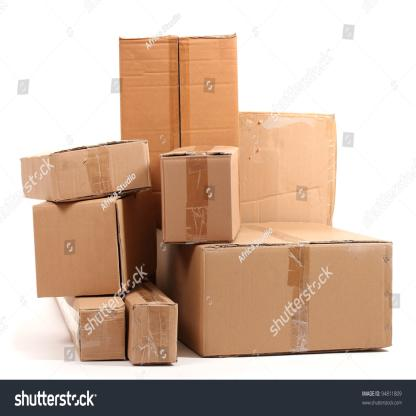box: (118, 37, 238, 244), (201, 240, 393, 358), (236, 113, 338, 224), (33, 192, 121, 301), (160, 155, 233, 246), (51, 139, 152, 202), (78, 308, 127, 362), (132, 306, 177, 363)
